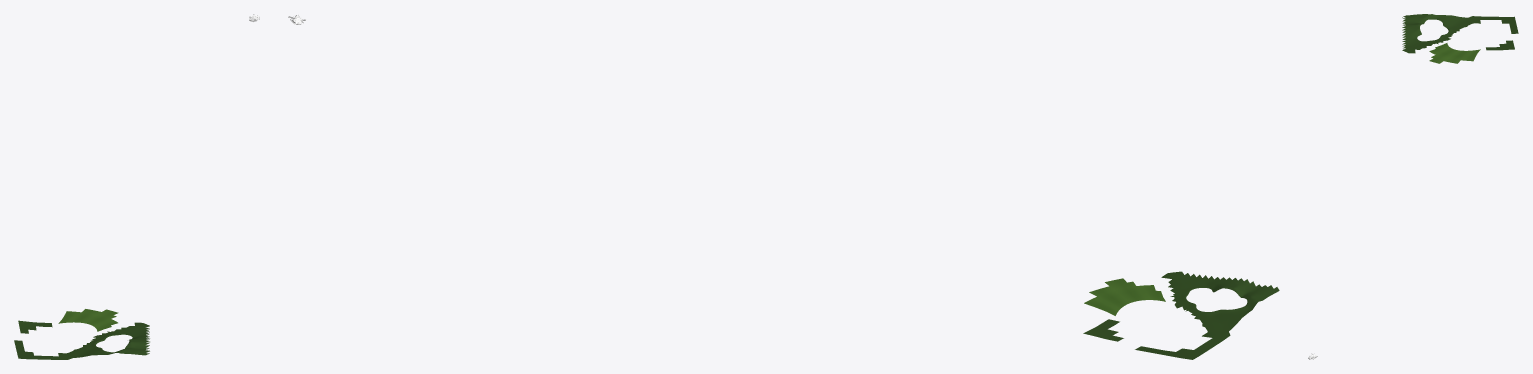
File: nature.glb
3 renders of one model, left to right at view 1: azimuth 90°, elevation 25°; view 2: azimuth 150°, elevation 25°; view 3: azimuth 270°, elevation 25°, orthographic. The views are drawn at different scales.
Parts seen in each view (by area): view 1: H01_Hero_Corridor_Rough_GG04, H01_Hero_Fairway_Approach; view 2: H01_Hero_Corridor_Rough_GG04, H01_Hero_Fairway_Approach; view 3: H01_Hero_Corridor_Rough_GG04, H01_Hero_Fairway_Approach.
Boxes of the visible parts, x1,y1,x2,y2 form: H01_Hero_Corridor_Rough_GG04: (14, 320, 149, 359); H01_Hero_Fairway_Approach: (58, 309, 118, 331); H01_Hero_Corridor_Rough_GG04: (1083, 271, 1279, 359); H01_Hero_Fairway_Approach: (1084, 278, 1165, 315); H01_Hero_Corridor_Rough_GG04: (1402, 14, 1518, 53); H01_Hero_Fairway_Approach: (1429, 43, 1480, 63).
Bounding box in the file's own units: 381 × 16.64 × 106.
